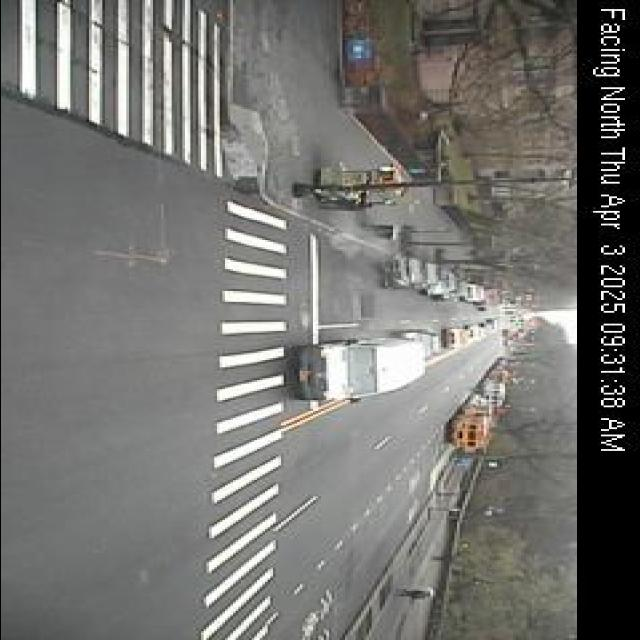open parking: (312, 219, 548, 316)
